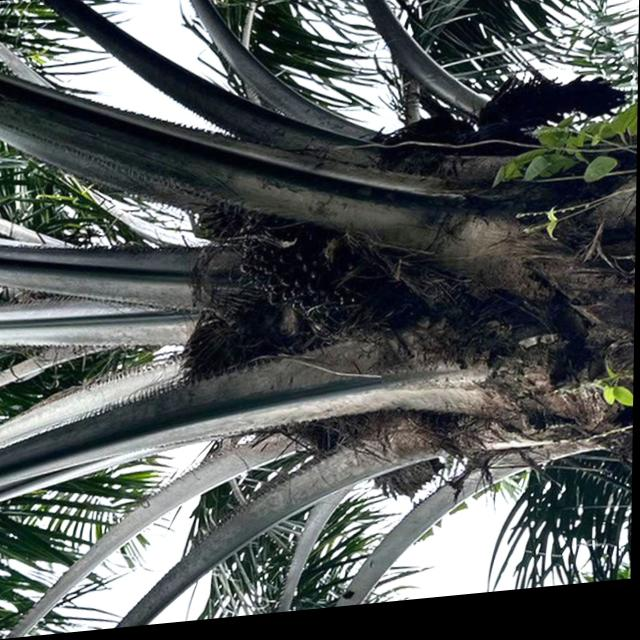almost: (233, 202, 418, 389)
